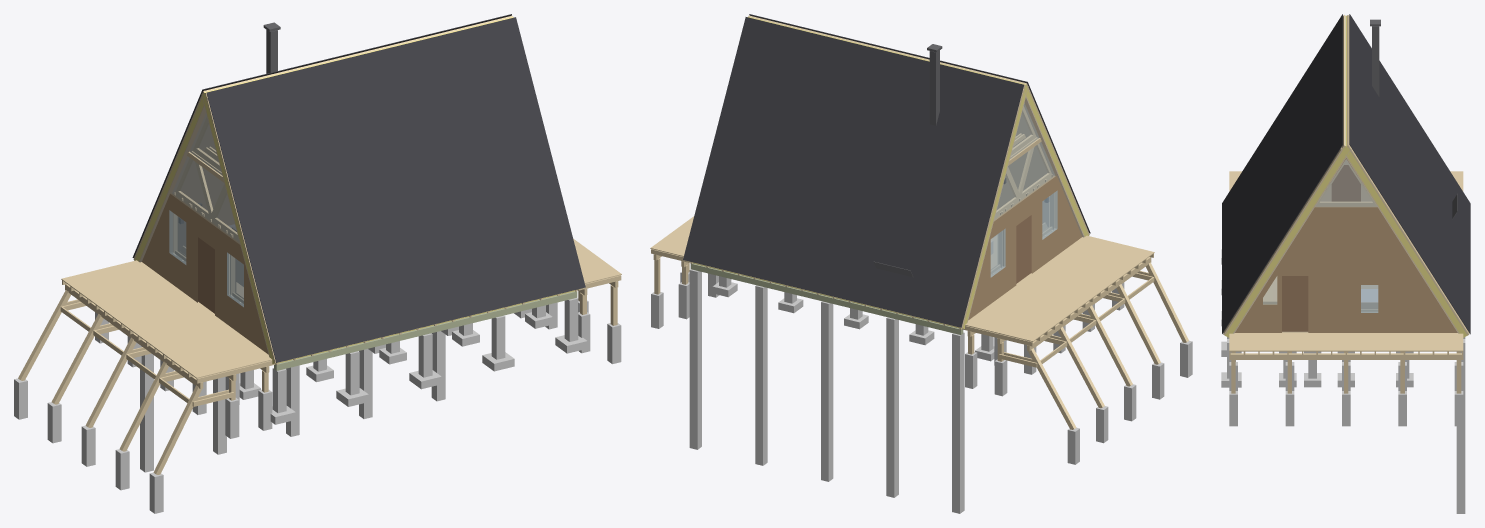
Rendered from cabin2.glb.
3 views of the same model, side by side, from view 1: azimuth 30°, elevation 25°; view 2: azimuth 150°, elevation 25°; view 3: azimuth 270°, elevation 25° (orthographic). The views are drawn at different scales.
Visible parts, largest first — view 1: roof_sheet_S, decking_W, gable_W_logs, pine_ceiling_N, beam_0, roof_insul_N, bored_pile_N0, roof_insul_S, roof_sheet_N, door_W, glazing_W2, decking_E (+16 smaller); view 2: roof_sheet_N, decking_W, gable_W_logs, bored_pile_N0, bored_pile_N1, bored_pile_N3, bored_pile_N4, bored_pile_N2, pine_ceiling_S, beam_4, roof_insul_S, roof_insul_N (+16 smaller); view 3: roof_sheet_S, gable_E_logs, roof_sheet_N, decking_E, roof_insul_S, glazing_E_top, roof_insul_N, door_E, deck_beam_E00.025, bored_pile_N4, counter_battens_N, counter_battens_S (+12 smaller).
Boxes of the visible parts, box(x1,y1,x2,y2) form: roof_sheet_S: box(206, 17, 585, 362); decking_W: box(61, 260, 272, 378); gable_W_logs: box(142, 194, 268, 354); pine_ceiling_N: box(139, 98, 234, 262); beam_0: box(274, 291, 577, 370); roof_insul_N: box(134, 17, 513, 261); bored_pile_N0: box(140, 346, 153, 472); roof_insul_S: box(202, 93, 582, 363); roof_sheet_N: box(132, 14, 511, 257); door_W: box(198, 237, 214, 313); glazing_W2: box(172, 151, 207, 218); decking_E: box(573, 239, 621, 283); roof_sheet_N: box(683, 17, 1023, 327); decking_W: box(965, 235, 1154, 341); gable_W_logs: box(968, 176, 1081, 319); bored_pile_N0: box(952, 332, 964, 513); bored_pile_N1: box(886, 317, 898, 497); bored_pile_N3: box(755, 285, 767, 465); bored_pile_N4: box(689, 269, 701, 449); bored_pile_N2: box(821, 301, 833, 481); pine_ceiling_S: box(997, 90, 1083, 237); beam_4: box(690, 263, 963, 334); roof_insul_S: box(748, 17, 1088, 236); roof_insul_N: box(688, 85, 1027, 328); roof_sheet_S: box(1222, 14, 1342, 333); gable_E_logs: box(1235, 158, 1457, 332); roof_sheet_N: box(1349, 14, 1470, 334); decking_E: box(1229, 332, 1463, 351); roof_insul_S: box(1225, 16, 1349, 337); glazing_E_top: box(1316, 159, 1376, 206); roof_insul_N: box(1342, 15, 1467, 337); door_E: box(1282, 276, 1308, 331); deck_beam_E00.025: box(1229, 354, 1463, 359); bored_pile_N4: box(1456, 339, 1465, 513); counter_battens_N: box(1347, 15, 1469, 335); counter_battens_S: box(1223, 15, 1344, 335).
Bounding box in the file's own units: 16.11 × 15.04 × 8.52.
